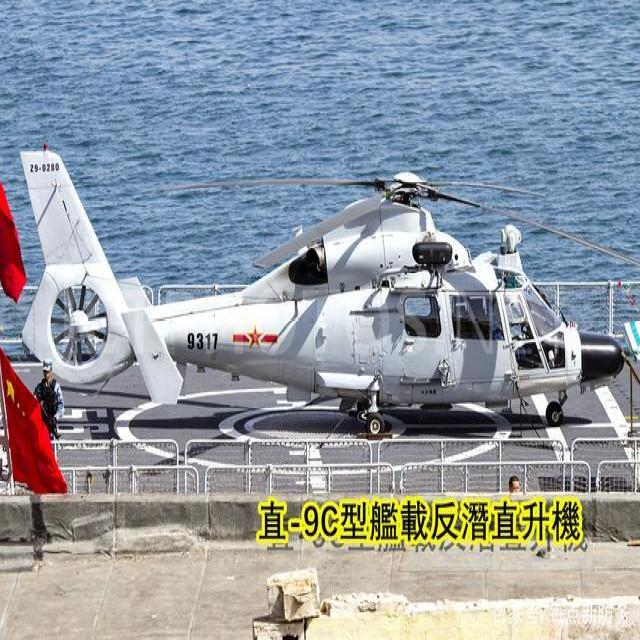MIL_HELO: (12, 137, 631, 464)
